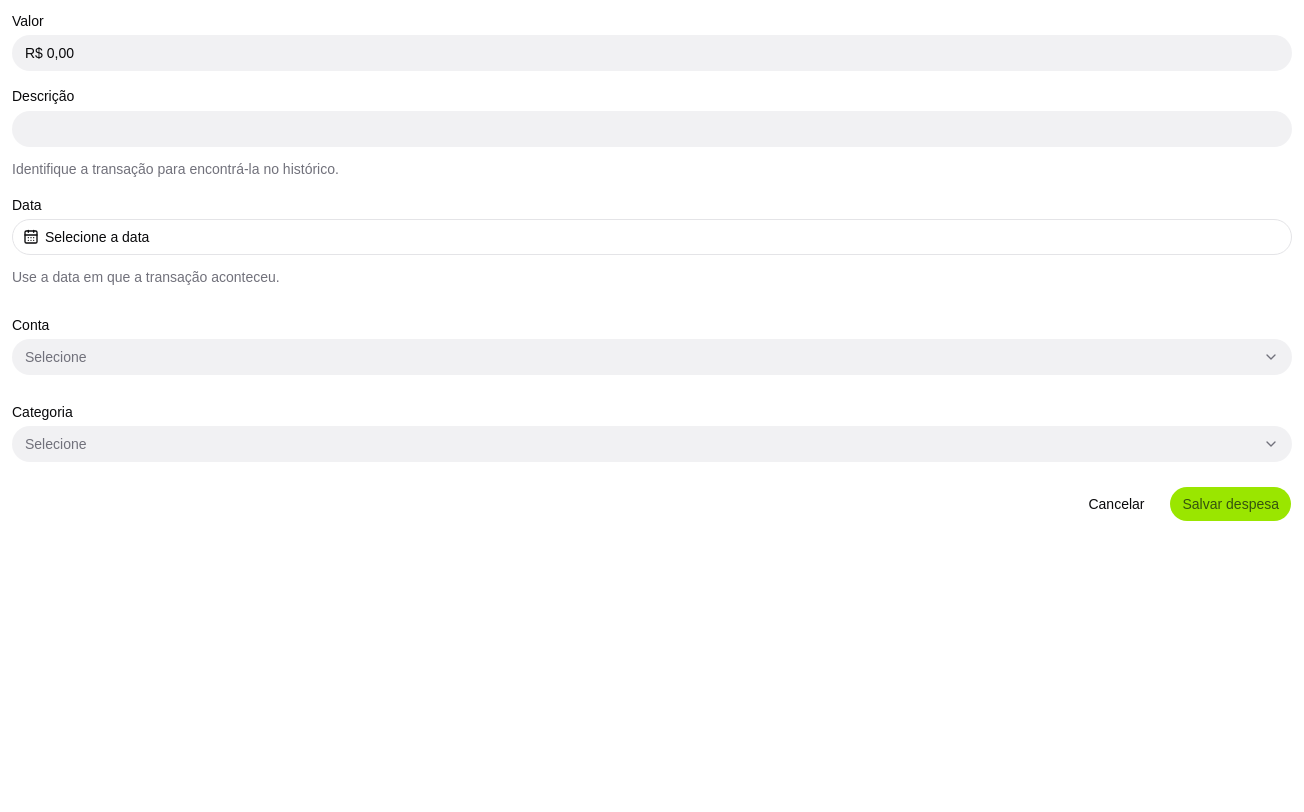
Test case: ExpenseForm › shows field validation without submitting
Click the button "Salvar despesa" at (1231, 504), box [1170,486,1292,522]
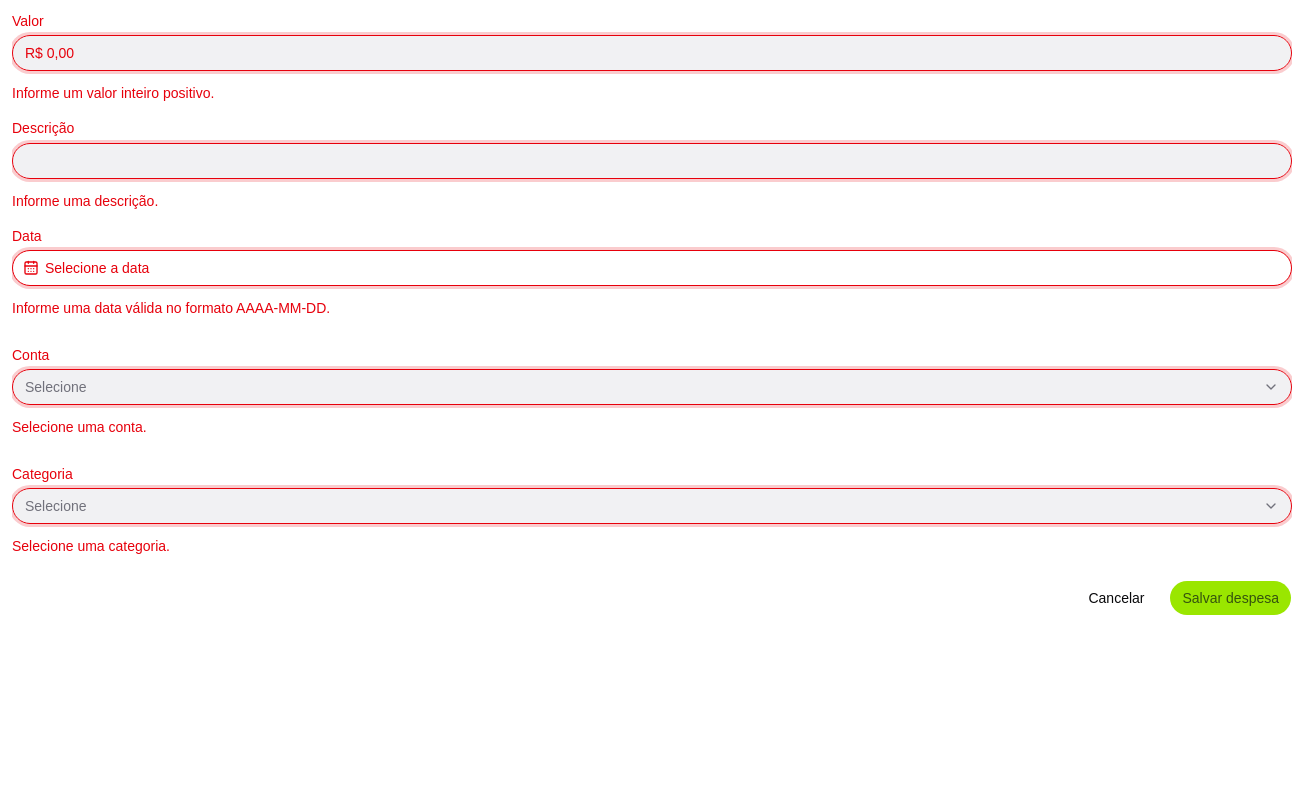
Result: the text "Informe um valor inteiro positivo." is shown at [12,85,214,101]
